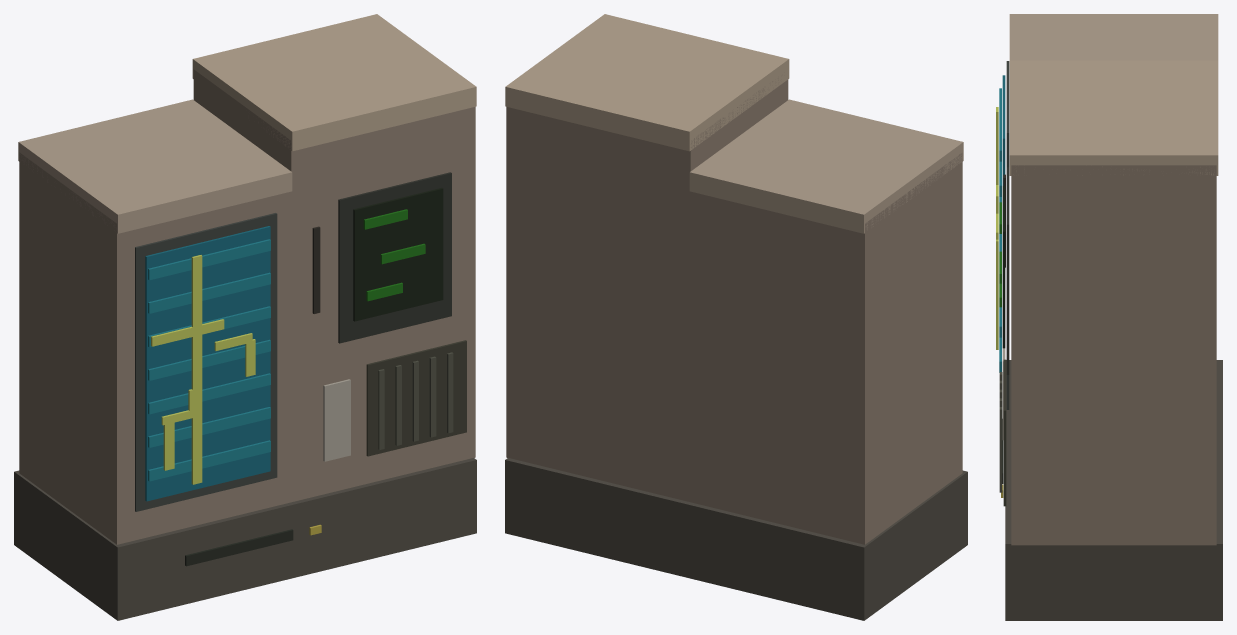
File: CMU3DTechTreeMappingConsole.glb
3 renders of one model, left to right at view 1: azimuth 30°, elevation 25°; view 2: azimuth 150°, elevation 25°; view 3: azimuth 270°, elevation 25°, orthographic. The views are drawn at different scales.
Parts seen in each view (by area): view 1: map display left case, status tower right case, technology console plinth, status tower top cap, map panel top cap, cyan map glass, right tower screen, cyan map scan band (×7), cyan map display border, lower right speaker grille, right tower dark inset, yellow map trace (×2) (+4 smaller); view 2: map display left case, status tower right case, technology console plinth, status tower top cap, map panel top cap; view 3: status tower right case, status tower top cap, technology console plinth, map panel top cap, right tower dark inset, right tower screen, lower right speaker grille, cyan map display border, yellow map trace, cyan map glass, speaker grille rib.
Part boxes in pixels (box(x1,y1,x2,y2)): map display left case: box(19, 152, 291, 544); status tower right case: box(193, 69, 475, 502); technology console plinth: box(14, 458, 476, 620); status tower top cap: box(192, 14, 476, 151); map panel top cap: box(18, 99, 292, 233); cyan map glass: box(145, 226, 270, 501); right tower screen: box(353, 188, 443, 321); cyan map scan band (×7): box(148, 239, 270, 481); cyan map display border: box(135, 213, 277, 511); lower right speaker grille: box(366, 340, 466, 456); right tower dark inset: box(338, 172, 451, 343); yellow map trace (×2): box(151, 255, 224, 484); map display left case: box(690, 153, 962, 544); status tower right case: box(506, 78, 788, 502); technology console plinth: box(505, 458, 967, 620); status tower top cap: box(505, 14, 789, 151); map panel top cap: box(689, 99, 963, 233); status tower right case: box(1011, 165, 1216, 545); status tower top cap: box(1009, 60, 1218, 175); technology console plinth: box(1005, 360, 1222, 620); map panel top cap: box(1009, 14, 1218, 60); right tower dark inset: box(1006, 167, 1009, 374); right tower screen: box(1002, 186, 1005, 348); lower right speaker grille: box(1003, 359, 1006, 506); cyan map display border: box(1006, 61, 1009, 409); yellow map trace: box(996, 107, 998, 349); cyan map glass: box(1002, 75, 1005, 185); speaker grille rib: box(999, 407, 1002, 492).
Bounding box in the file's own units: 0.967 × 1.14 × 0.5011.
